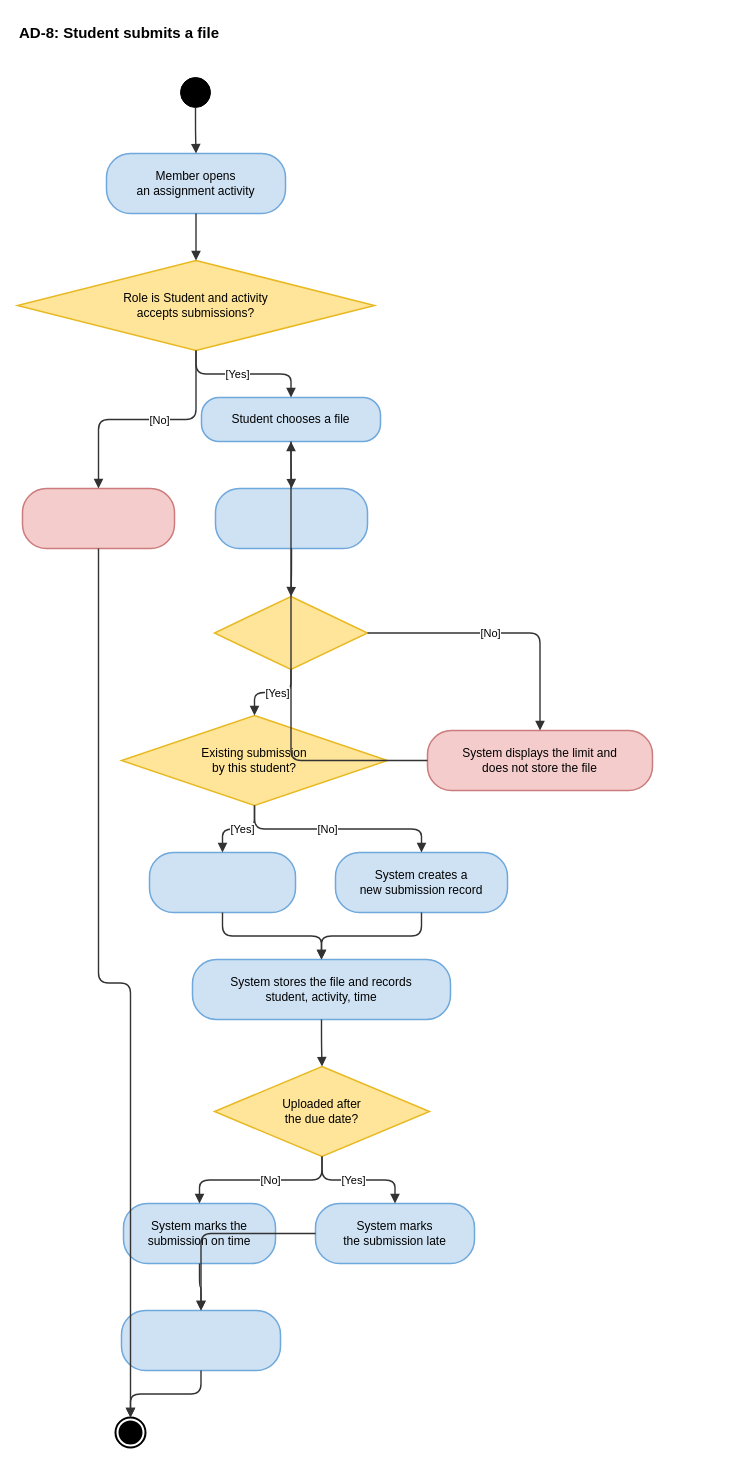
This 730x1465 diagram has some shape labels left out. The box of each missing label's shape, as (x1, y1, x2, y2) in pixels:
Allowed?: (213, 595, 368, 670)
System checks file size and type: (214, 487, 368, 549)
System hides the upload control: (21, 487, 175, 549)
System replaces the previous file: (148, 851, 296, 913)
System shows upload confirmation: (120, 1309, 281, 1371)
